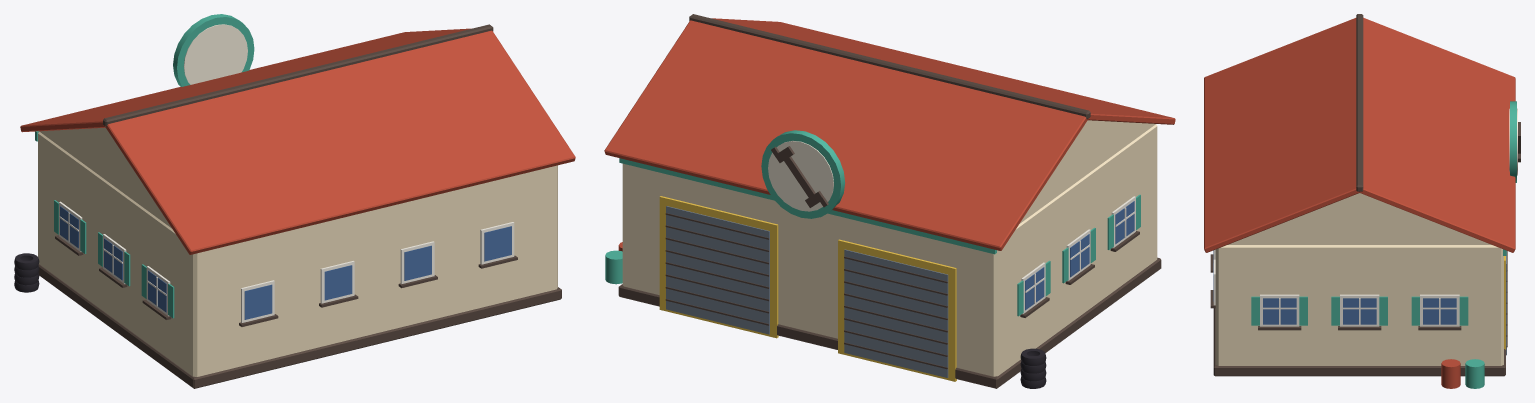
The model's file is bld_garage_main.glb.
3 views of the same model, side by side, from view 1: azimuth 30°, elevation 25°; view 2: azimuth 150°, elevation 25°; view 3: azimuth 270°, elevation 25° (orthographic). The views are drawn at different scales.
Visible parts, largest first — view 1: bld_garage_main; view 2: bld_garage_main; view 3: bld_garage_main.
Boxes of the visible parts, <box> form: bld_garage_main: <box>14,14,575,388</box>; bld_garage_main: <box>604,14,1175,388</box>; bld_garage_main: <box>1204,14,1520,388</box>.
Size of the model in its own units: 18.78 by 9.05 by 13.19.
